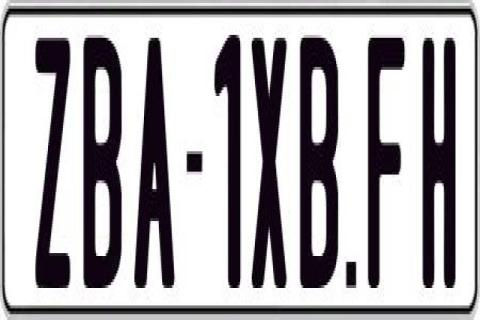0: (214, 35, 246, 294)
A: (132, 35, 170, 297)
B: (300, 29, 343, 279), (81, 38, 121, 291)
F: (366, 38, 406, 294)
H: (420, 38, 454, 297)
X: (250, 32, 290, 300)
Z: (35, 38, 75, 294)
